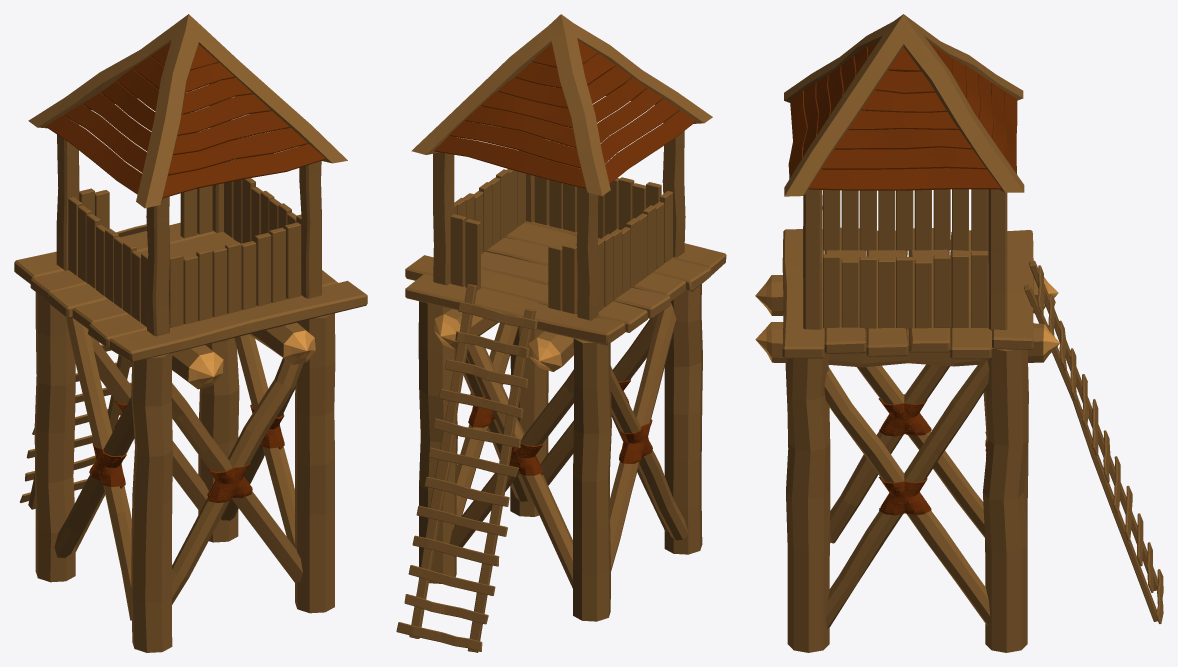
File: viking tower2.fbx
The picture shows the model from 3 angles, left to right: view 1: azimuth 30°, elevation 25°; view 2: azimuth 150°, elevation 25°; view 3: azimuth 270°, elevation 25°; orthographic projection. The views are drawn at different scales.
Parts seen in each view (by area): view 1: tower2; view 2: tower2; view 3: tower2.
Boxes of the visible parts, box(x1,y1,x2,y2) form: tower2: box(14, 14, 367, 652); tower2: box(396, 14, 726, 652); tower2: box(755, 14, 1163, 652).
Size of the model in its own units: 452 by 1026 by 643.
